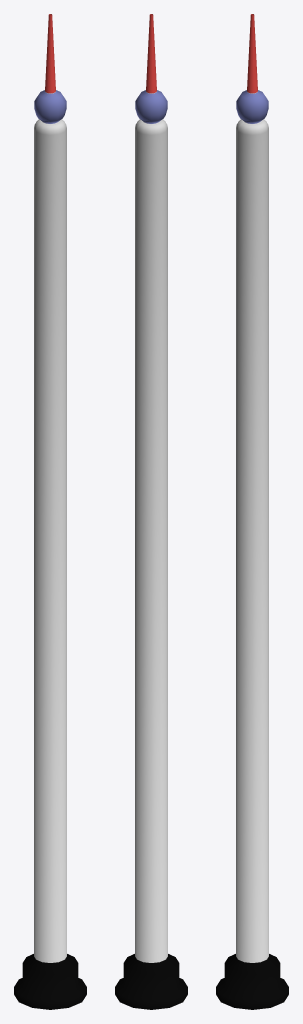
File: Doors.fbx
3 renders of one model, left to right at view 1: azimuth 30°, elevation 25°; view 2: azimuth 150°, elevation 25°; view 3: azimuth 330°, elevation 25°, orthographic.
Parts seen in each view (by area): view 1: Doors; view 2: Doors; view 3: Doors.
Boxes of the visible parts, x1,y1,x2,y2 form: Doors: (14, 14, 86, 1009); Doors: (115, 14, 187, 1009); Doors: (216, 14, 288, 1009).
Bounding box in the file's own units: 29.89 × 443 × 29.89.
